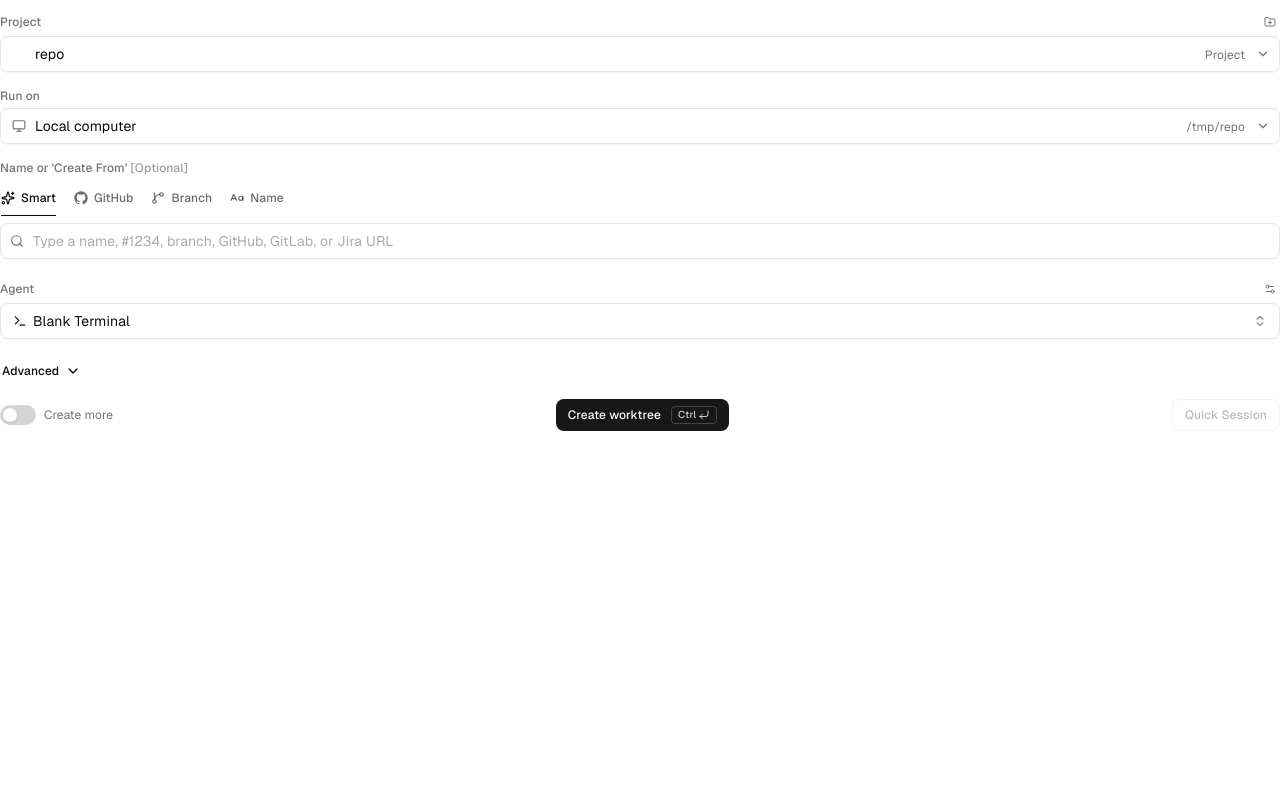
NewWorkspaceComposer submit (#316 unchanged daemon payload) › a daemon error surfaces verbatim in the footer alert
The width and height of the screenshot is (1280, 800).
Type "demo-a" into the field with placeholder "Type a name, #1234, branch, GitHub, GitLab, or Jira URL" at (640, 241), box [0,223,1279,259]
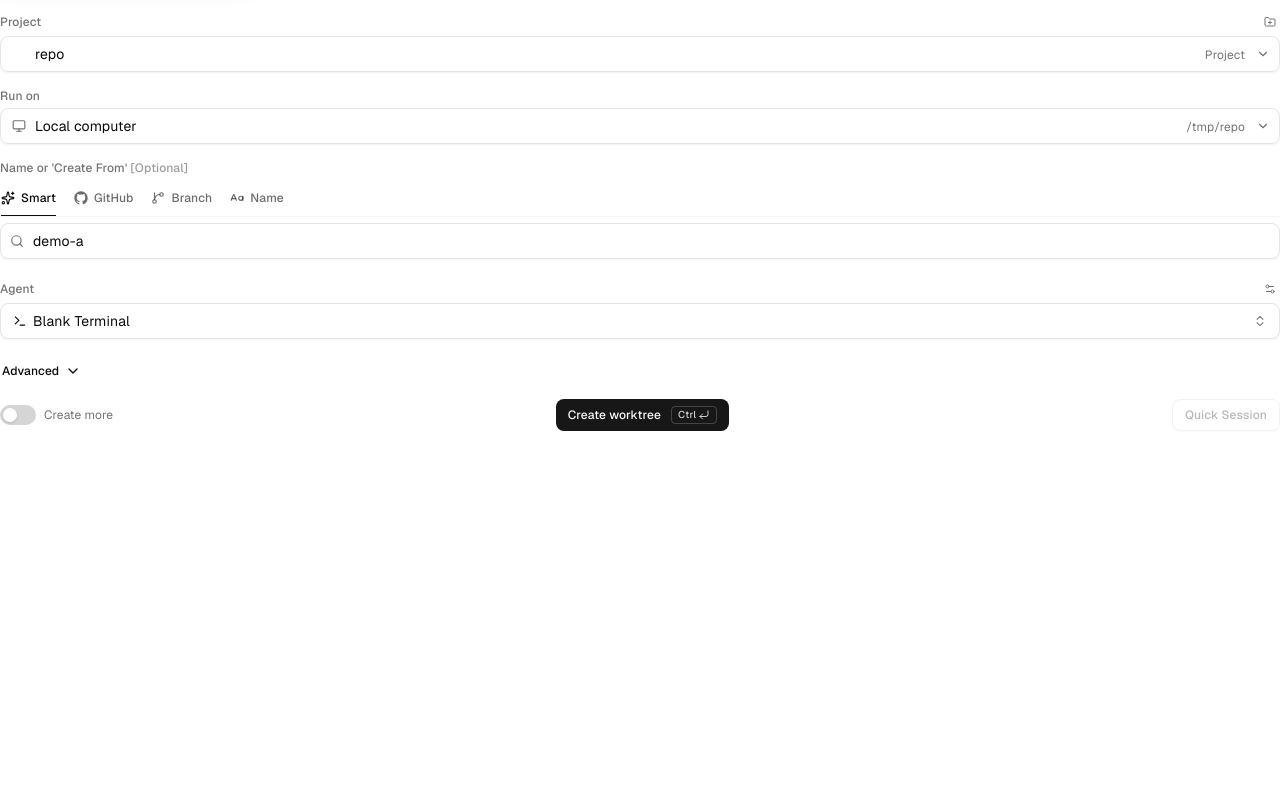
Click the button "Create worktree Ctrl" at (643, 415), box [556,399,729,431]
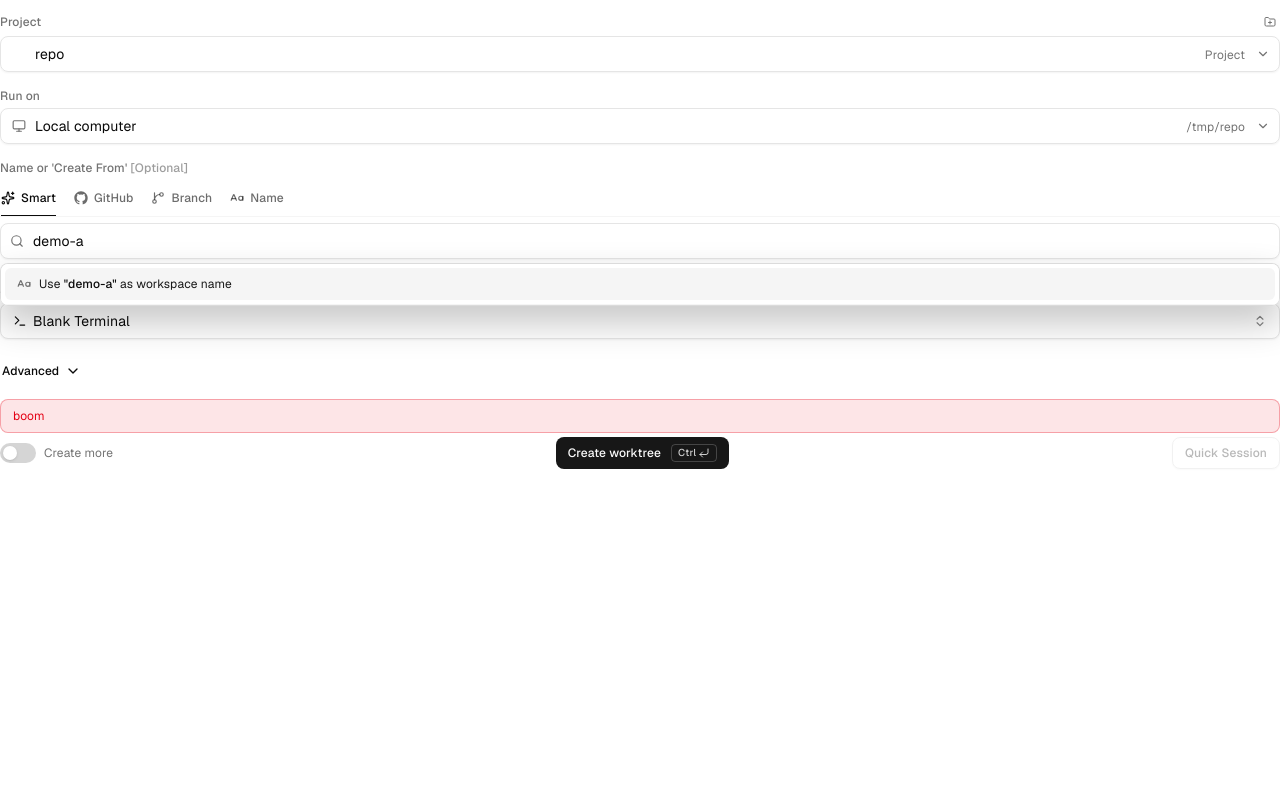
Expected: the message reads "boom", [13,408,45,424]
